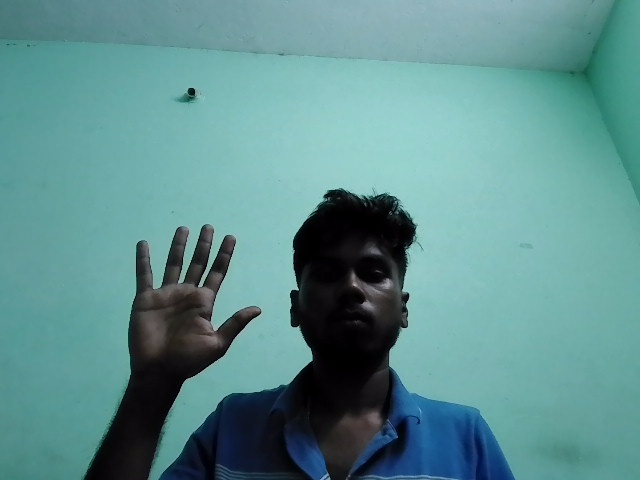Hello: (107, 206, 282, 391)
